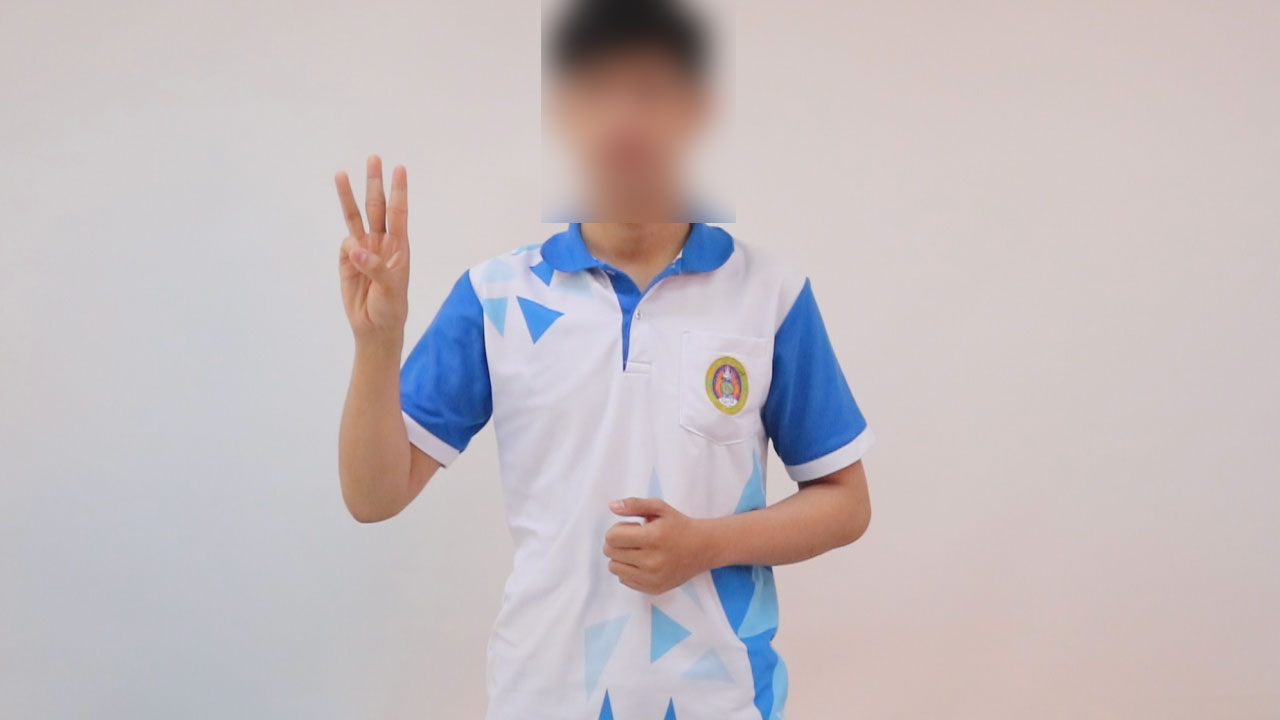wor: (323, 149, 415, 344)
